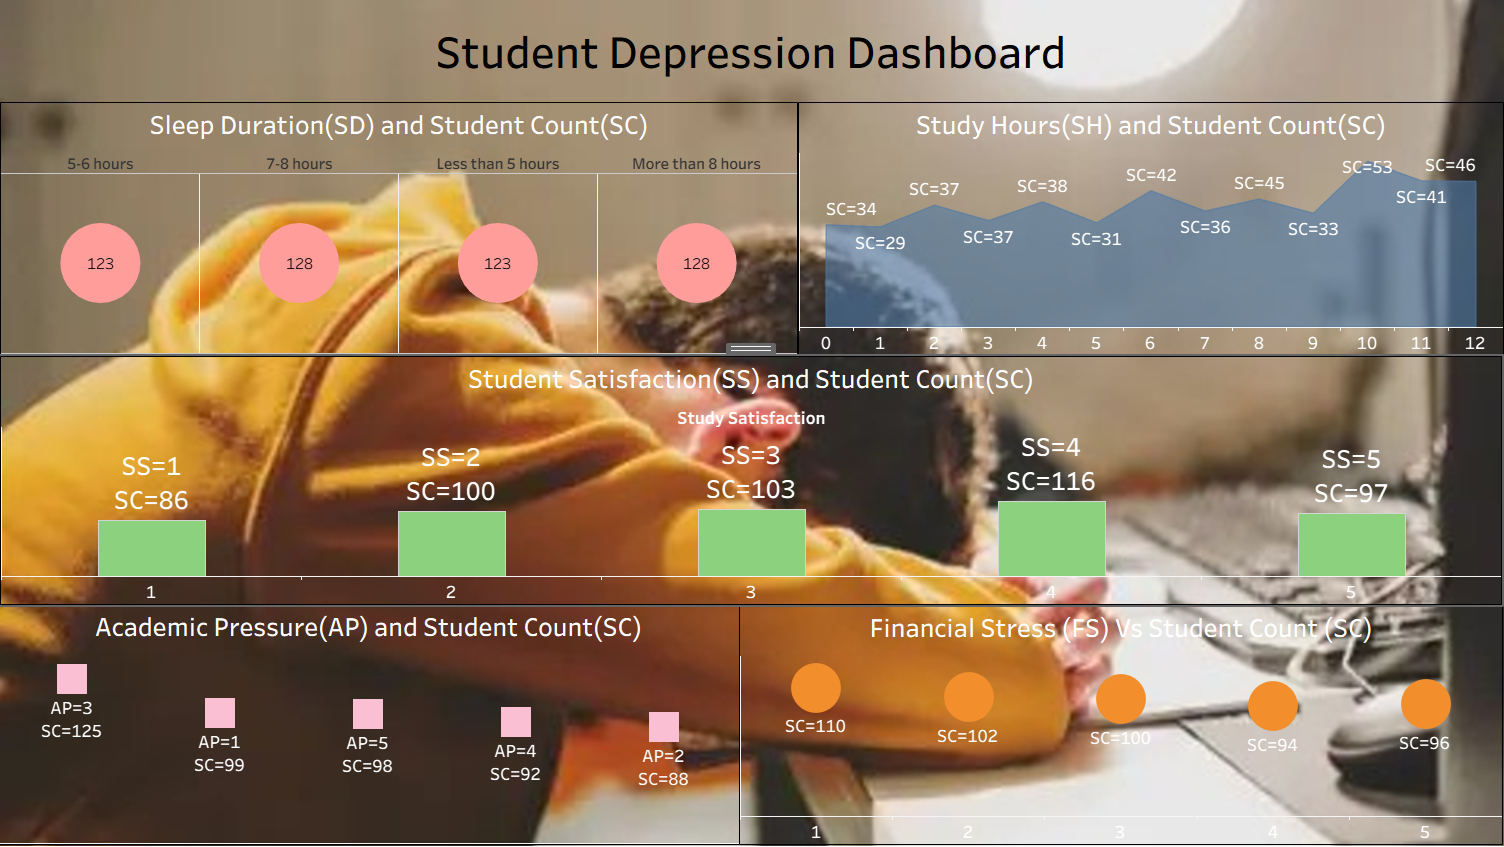

This screenshot's page, from the dashboard's own definition file:
{"tool":"tableau","page":{"name":"Dashboard 1","canvas":[1000,1000],"units":"permille","ordinal":0},"visuals":[{"type":"image","param":"C:/Users/garg/OneDrive/Desktop/dashboard.jpg","box":[1.8,3.5,995.8,995.3]},{"type":"text","box":[3,4.7,905.2,119.9]},{"type":"worksheet","title":"Sheet 4","mark":"Pie","cols":["Sleep_Duration"],"box":[2.4,124.6,481.6,297.3]},{"type":"worksheet","title":"Sheet 5","mark":"Area","rows":["Index_column"],"cols":["Study_Hours"],"box":[484,124.6,426.1,298.5]},{"type":"worksheet","title":"Sheet 3","mark":"Automatic","rows":["Index_column"],"cols":["Study_Satisfaction"],"box":[2.4,423,906.5,292.6]},{"type":"worksheet","title":"Sheet 1","mark":"Square","rows":["Index_column"],"cols":["Academic_Pressure"],"box":[0.6,714.5,448.4,283.2]},{"type":"worksheet","title":"Sheet 2","mark":"Circle","rows":["Index_column"],"cols":["Financial_Stress"],"box":[448.4,715.6,461.1,282]}]}

Visuals, with their boxes on the dashboard's canvas, which has no fixed pixel size, in thousandths of its width and height (x1, y1, x2, y2). These are canvas units, not pixel positions in the 1504x847 screenshot, which may show the page scaled, cropped or inside an application window:
image: (2, 4, 998, 999)
text: (3, 5, 908, 125)
"Sheet 4" worksheet (Pie marks): (2, 125, 484, 422)
"Sheet 5" worksheet (Area marks): (484, 125, 910, 423)
"Sheet 3" worksheet: (2, 423, 909, 716)
"Sheet 1" worksheet (Square marks): (1, 714, 449, 998)
"Sheet 2" worksheet (Circle marks): (448, 716, 910, 998)
